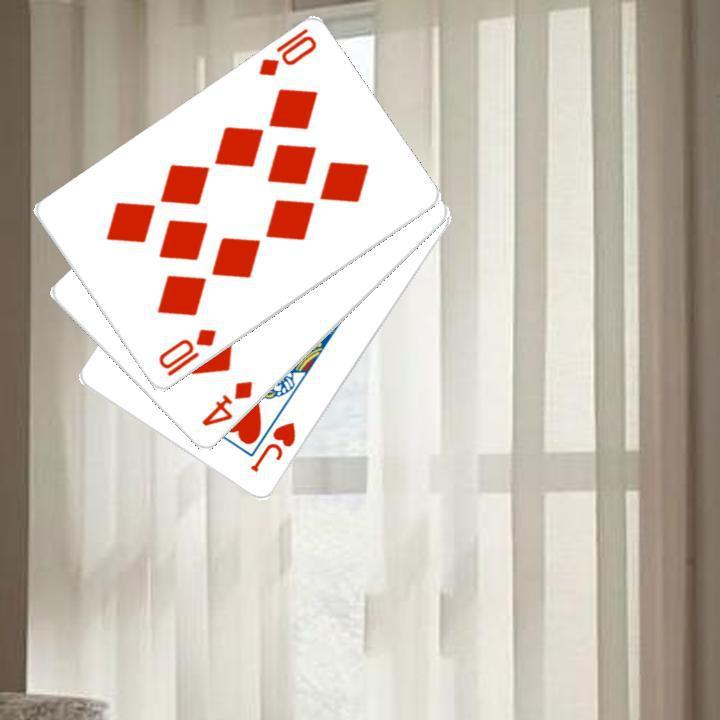10: (153, 324, 218, 379), (254, 24, 319, 79)
4: (197, 377, 255, 429)
J: (246, 418, 298, 475)
